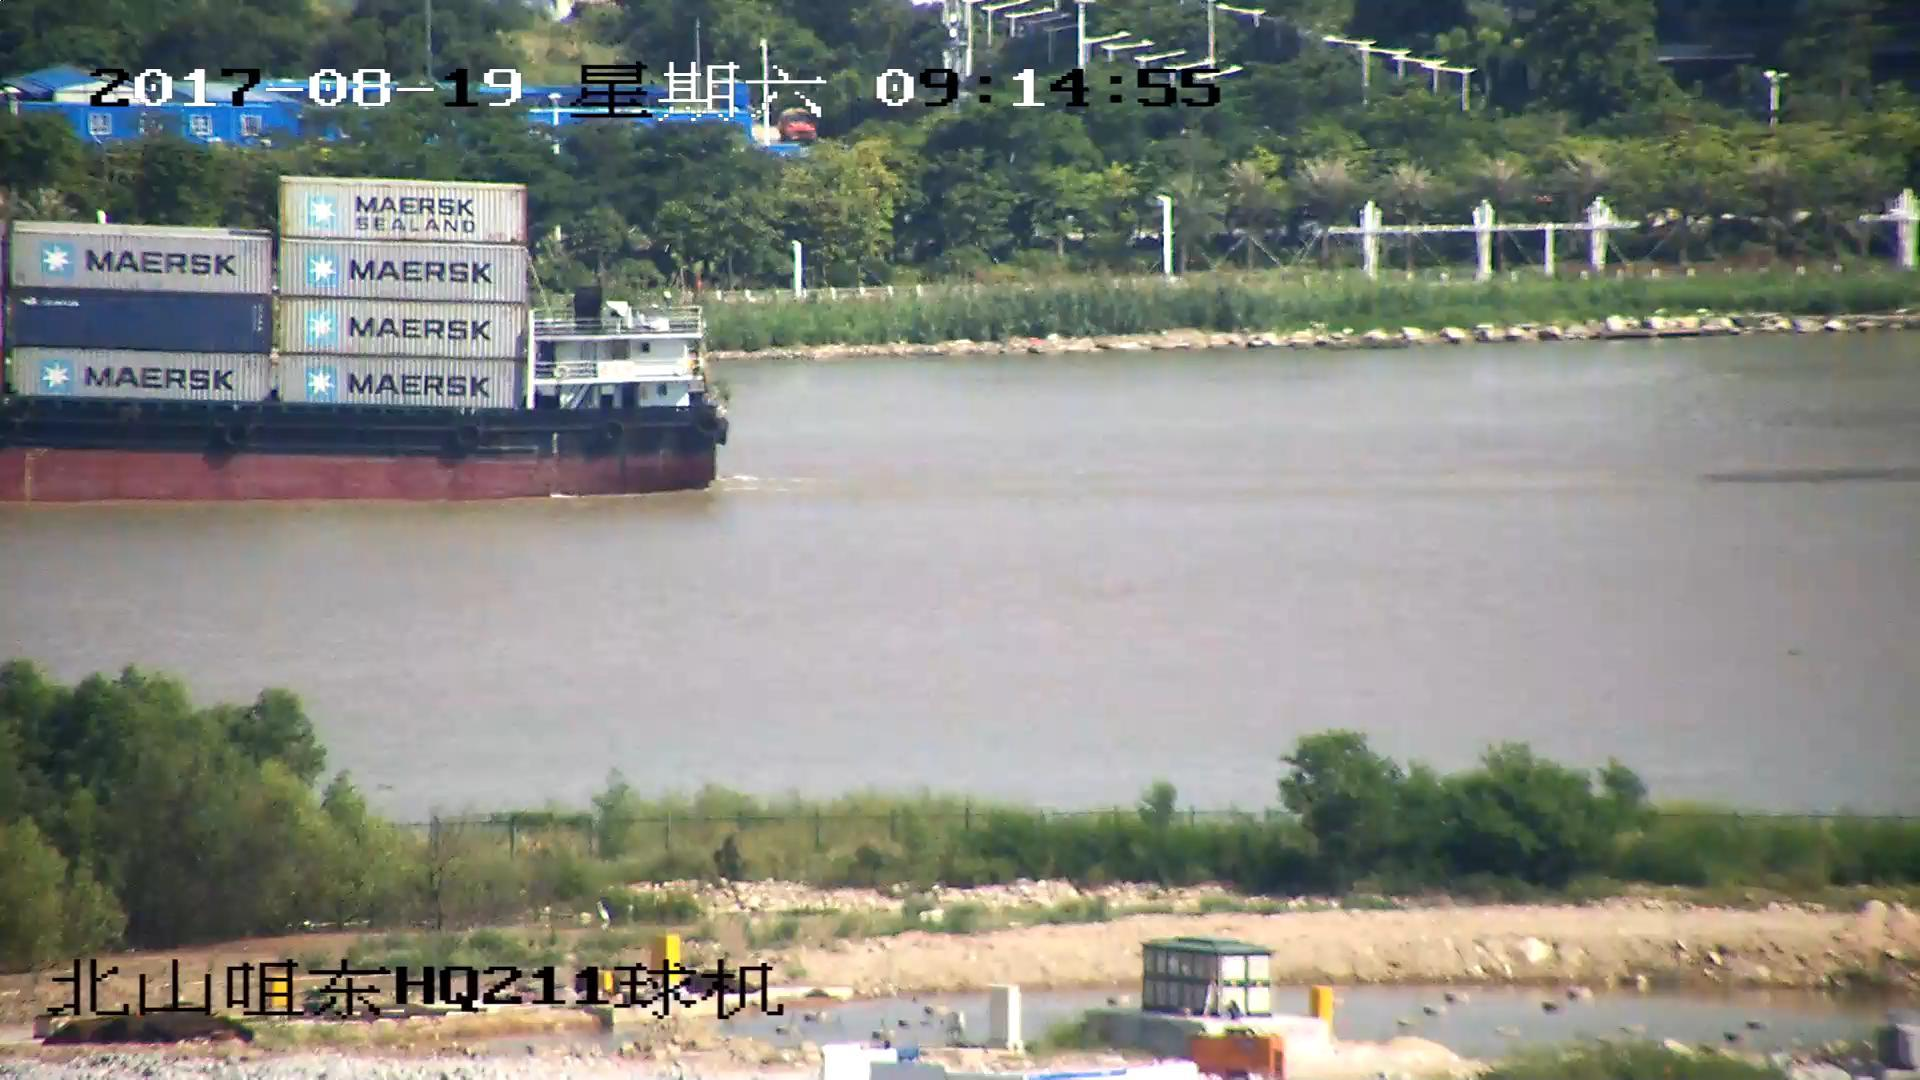Ship: (3, 177, 738, 504)
